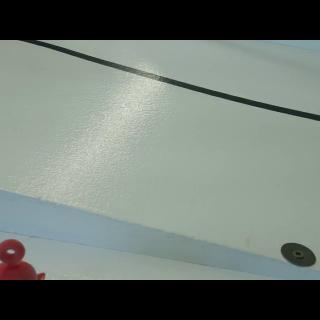teletubby: (0, 239, 45, 280)
